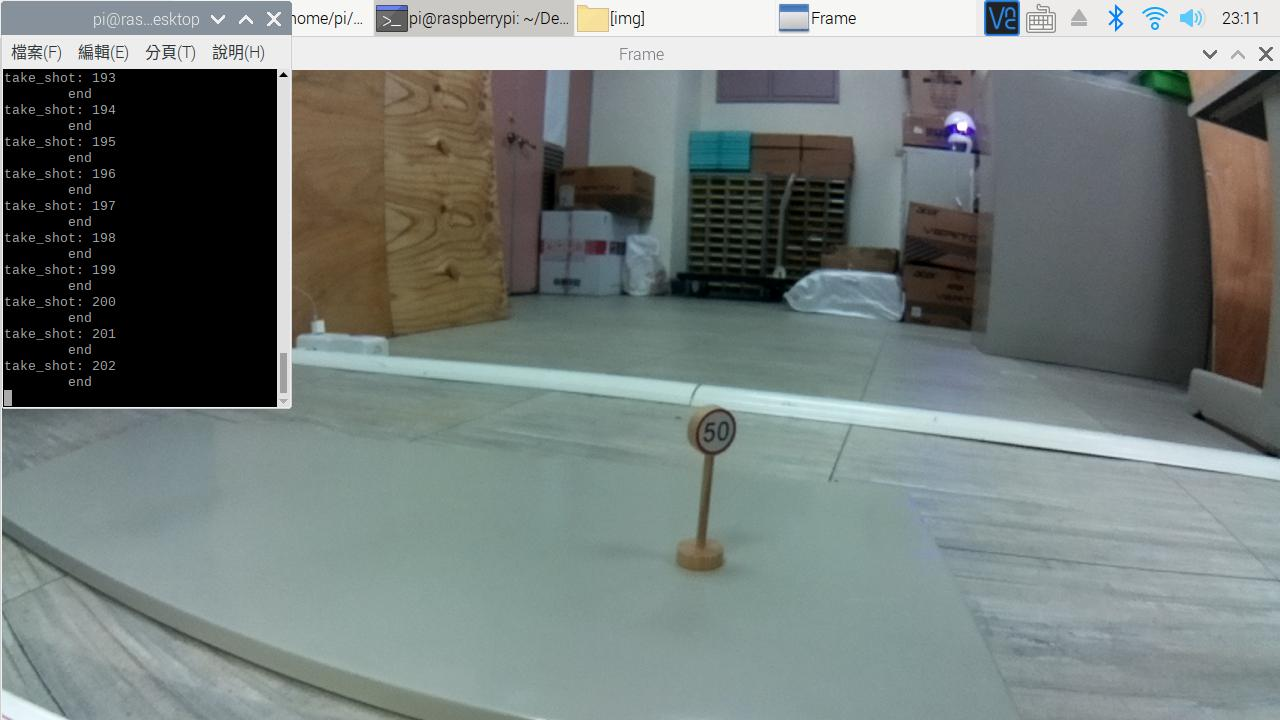Speed50: (682, 403, 755, 460)
